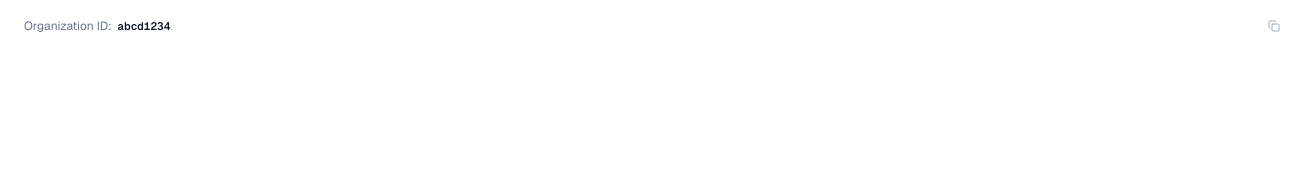
Scenario: OrgIdHeader › should copy the full UUID to the clipboard and show copied feedback on click
Click the button with aria-label "copy organization id".
click(66, 26)  # box [12,12,1292,40]
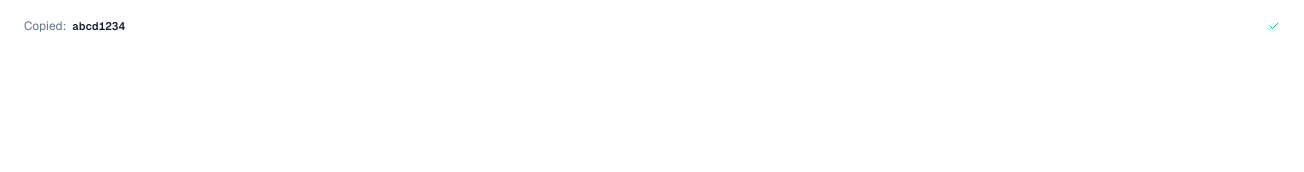
Now the text "Copied:" is shown, box [24,18,66,34]
